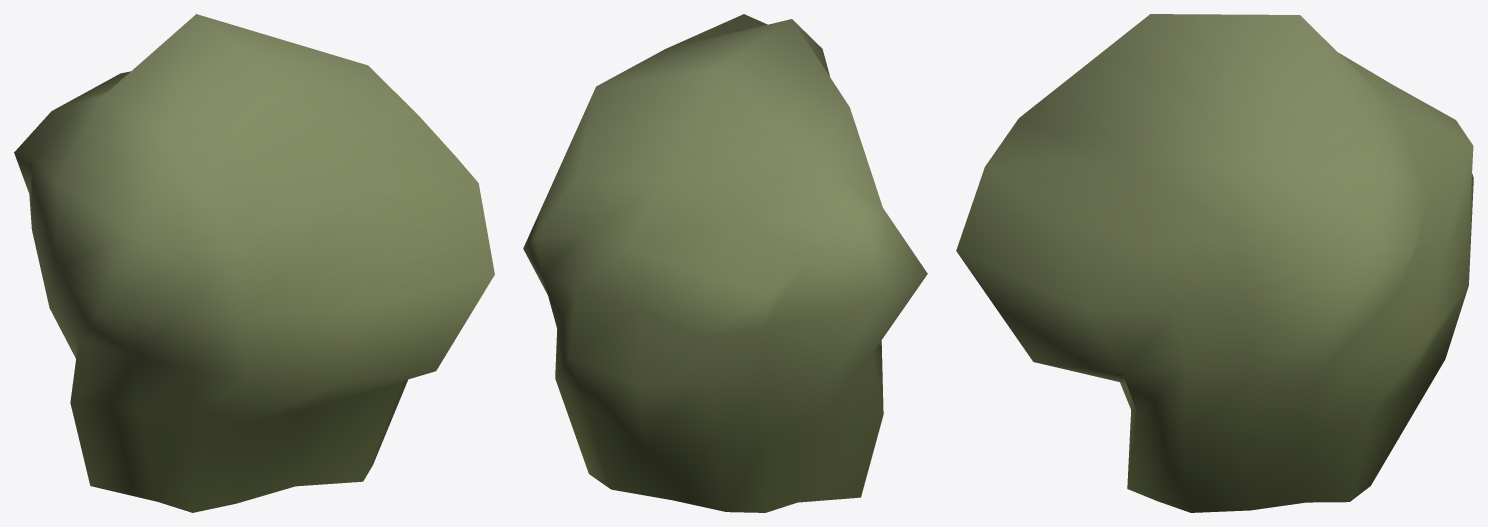
Rendered from WE02_Brush21.fbx.
The picture shows the model from 3 angles, left to right: view 1: azimuth 30°, elevation 25°; view 2: azimuth 150°, elevation 25°; view 3: azimuth 270°, elevation 25°; orthographic projection. The views are drawn at different scales.
Parts seen in each view (by area): view 1: WE02_Brush21; view 2: WE02_Brush21; view 3: WE02_Brush21.
Part boxes in pixels (<box>): WE02_Brush21: <box>14,14,494,512</box>; WE02_Brush21: <box>523,14,927,512</box>; WE02_Brush21: <box>956,14,1473,512</box>.
Size of the model in its own units: 4.98 by 5.89 by 6.35.
